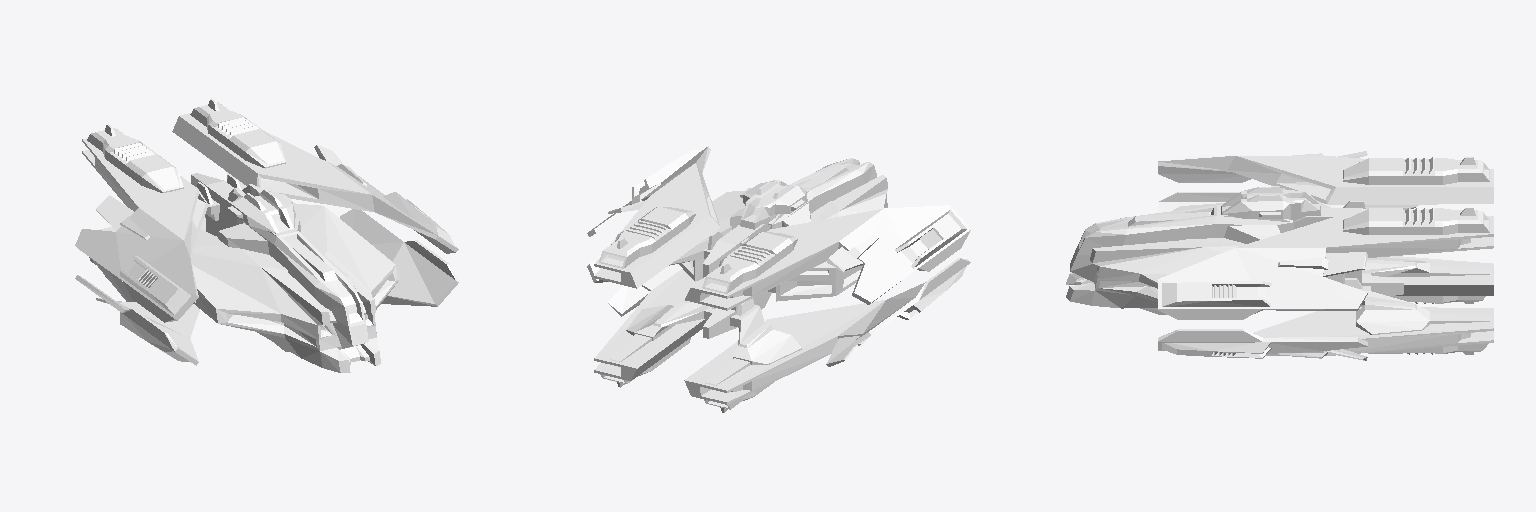
Rendered from ship.obj.
3 views of the same model, side by side, from view 1: azimuth 30°, elevation 25°; view 2: azimuth 150°, elevation 25°; view 3: azimuth 270°, elevation 25° (orthographic).
Visible parts, largest first — view 1: SciFi_Fighter_AK5; view 2: SciFi_Fighter_AK5; view 3: SciFi_Fighter_AK5.
Boxes of the visible parts, x1,y1,x2,y2 form: SciFi_Fighter_AK5: [75, 99, 458, 372]; SciFi_Fighter_AK5: [587, 146, 970, 412]; SciFi_Fighter_AK5: [1066, 151, 1493, 360].
Size of the model in its own units: 1544 by 748 by 1982.